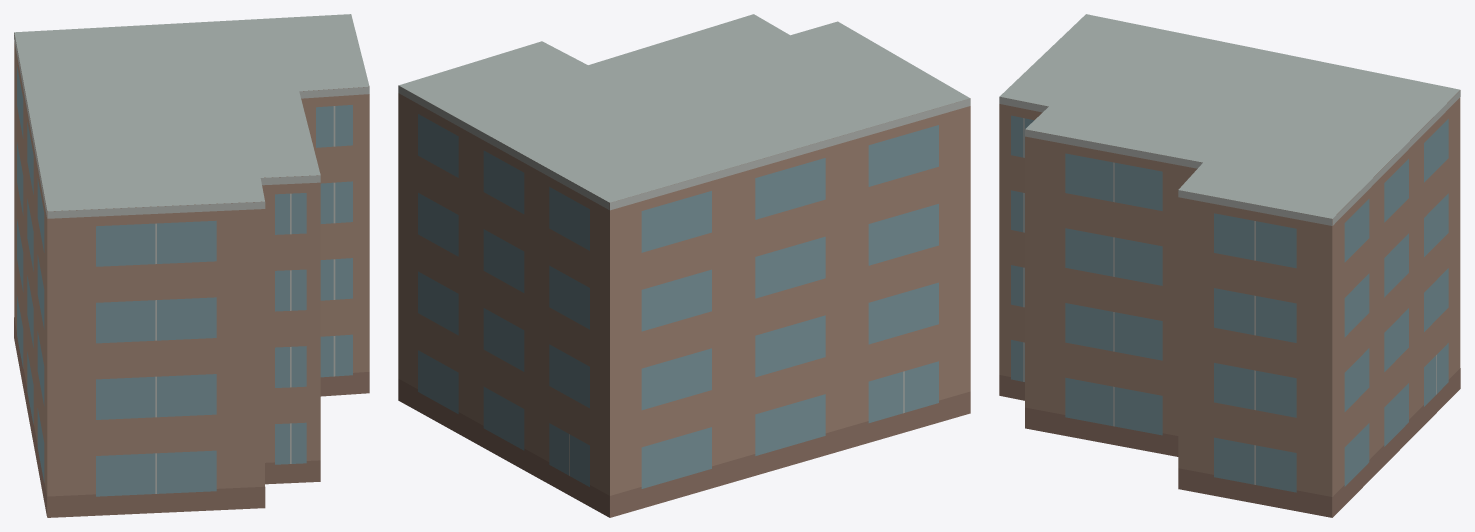
The model's file is survey-upis-32937223.glb.
3 views of the same model, side by side, from view 1: azimuth 30°, elevation 25°; view 2: azimuth 150°, elevation 25°; view 3: azimuth 270°, elevation 25° (orthographic). The views are drawn at different scales.
Parts seen in each view (by area): view 1: survey-upis-32937223.tmp; view 2: survey-upis-32937223.tmp; view 3: survey-upis-32937223.tmp.
Part boxes in pixels (x1=…): survey-upis-32937223.tmp: x1=14, y1=14, x2=369, y2=517; survey-upis-32937223.tmp: x1=398, y1=14, x2=970, y2=517; survey-upis-32937223.tmp: x1=999, y1=14, x2=1460, y2=517.
Bounding box in the file's own units: 14.85 × 10.1 × 14.12.
